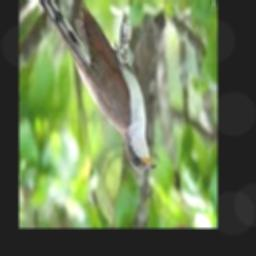Cuckoo: (32, 0, 156, 172)
